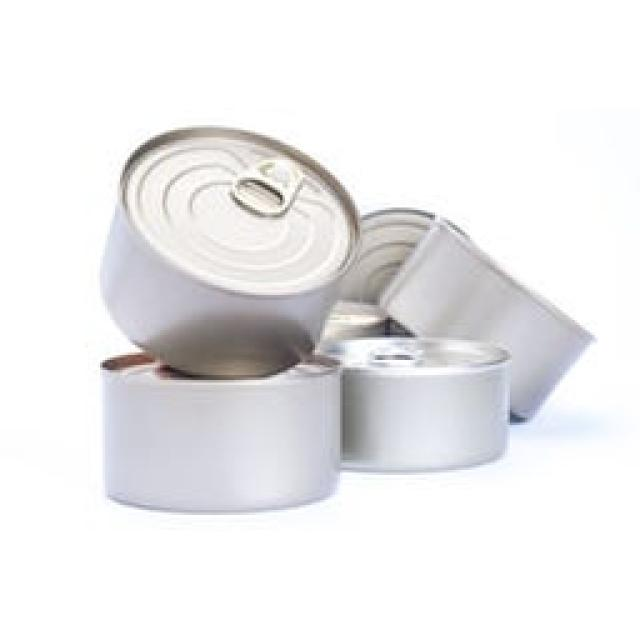alumunium: (100, 128, 588, 510)
